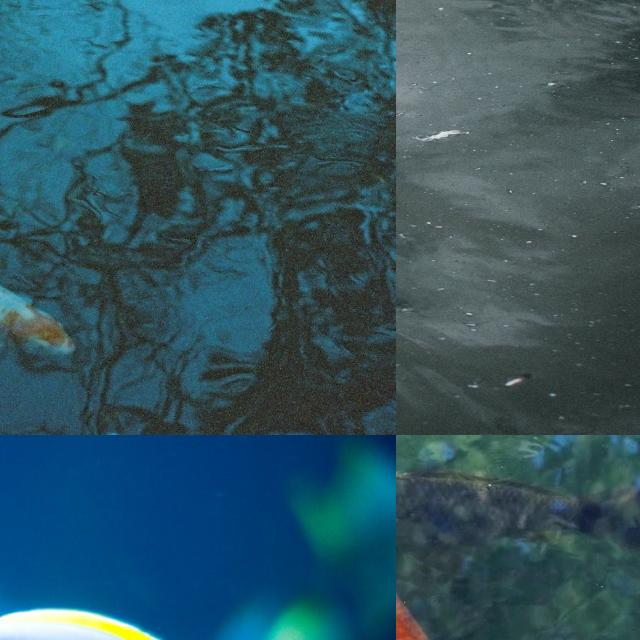fish: (0, 0, 396, 435), (396, 435, 640, 640), (396, 84, 568, 303)
